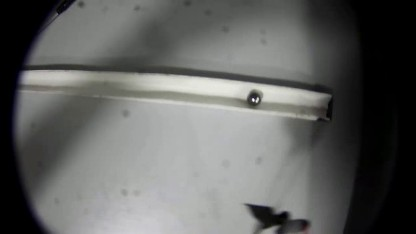gangzhu: (245, 89, 263, 107)
